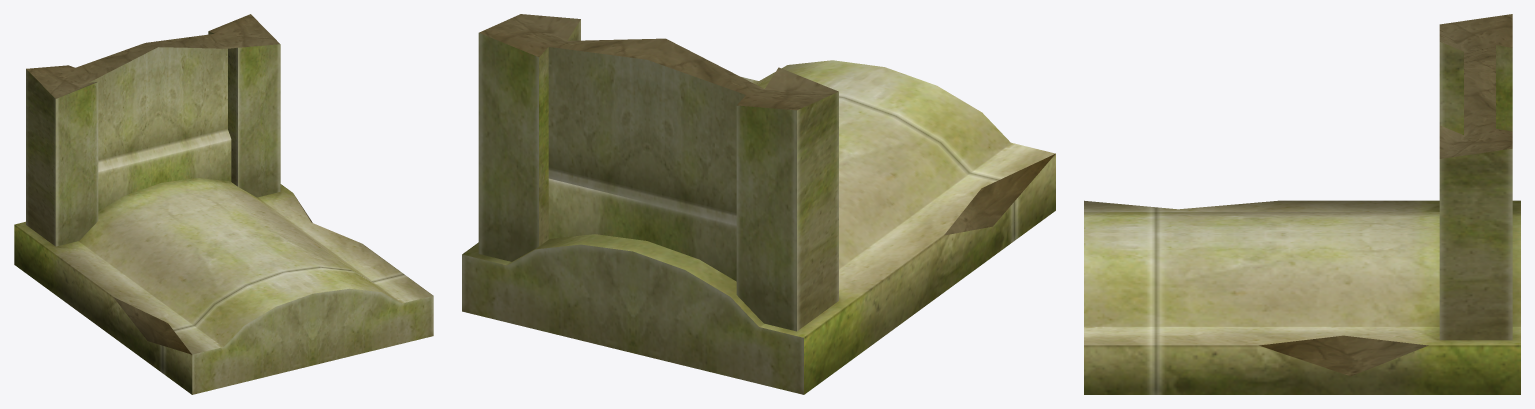
Rendered from a_SWCtomb10.glb.
The picture shows the model from 3 angles, left to right: view 1: azimuth 30°, elevation 25°; view 2: azimuth 150°, elevation 25°; view 3: azimuth 270°, elevation 25°; orthographic projection. The views are drawn at different scales.
Visible parts, largest first — view 1: a_SWCtomb10; view 2: a_SWCtomb10; view 3: a_SWCtomb10.
Boxes of the visible parts, x1,y1,x2,y2 form: a_SWCtomb10: [14, 14, 433, 394]; a_SWCtomb10: [462, 14, 1055, 394]; a_SWCtomb10: [1084, 14, 1520, 394].
Size of the model in its own units: 1.21 by 0.9823 by 1.54.
Materials: 2 (2 with a texture image).
